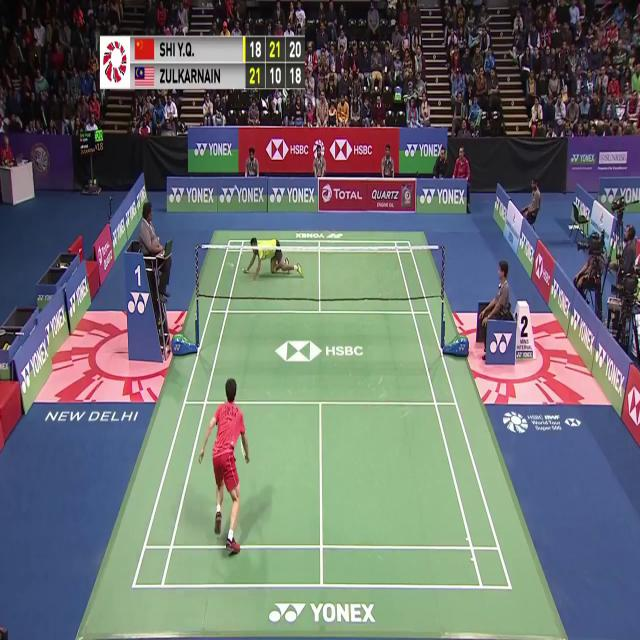Shuttlecock: (233, 182, 239, 193)
